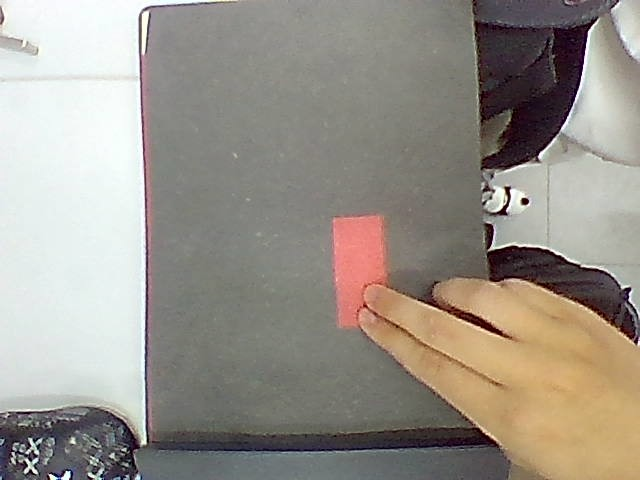card: (333, 215, 386, 327)
